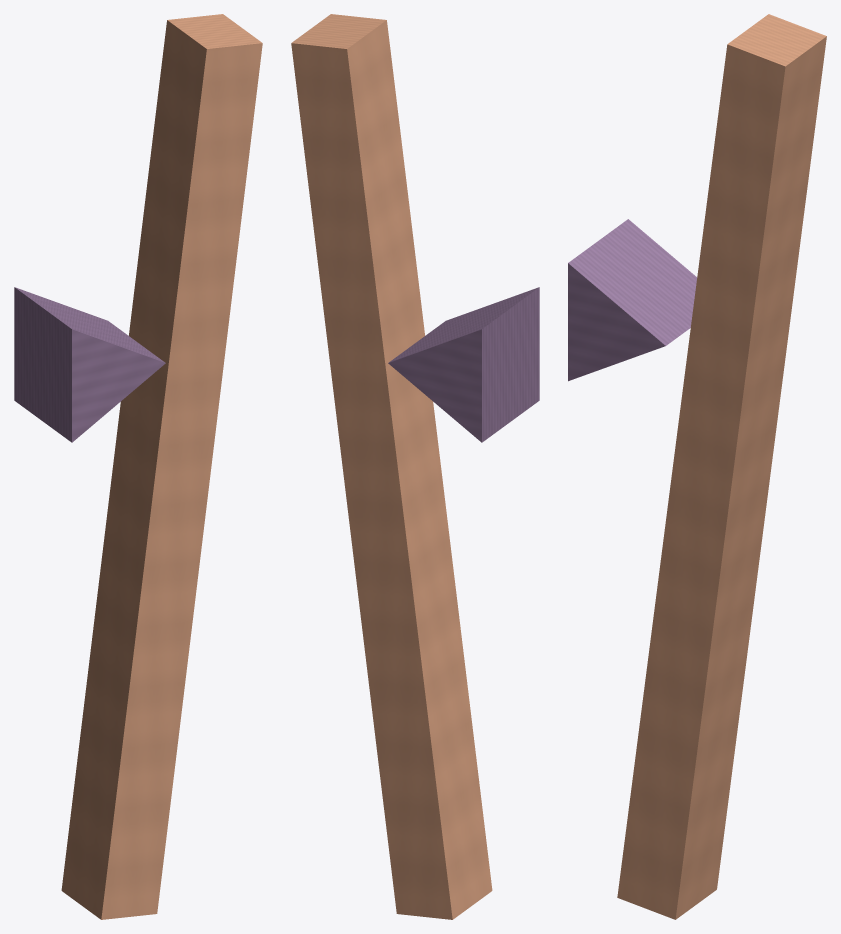
The model's file is atlas100-s086-a05.lod2.glb.
The picture shows the model from 3 angles, left to right: view 1: azimuth 30°, elevation 25°; view 2: azimuth 150°, elevation 25°; view 3: azimuth 330°, elevation 25°; orthographic projection. The views are drawn at different scales.
Parts seen in each view (by area): view 1: atlas100-s086-a05:part-001, atlas100-s086-a05:part-002; view 2: atlas100-s086-a05:part-001, atlas100-s086-a05:part-002; view 3: atlas100-s086-a05:part-001, atlas100-s086-a05:part-002.
Boxes of the visible parts, <box> form: atlas100-s086-a05:part-001: <box>61,14,262,919</box>; atlas100-s086-a05:part-002: <box>14,287,165,442</box>; atlas100-s086-a05:part-001: <box>291,14,492,919</box>; atlas100-s086-a05:part-002: <box>388,287,539,442</box>; atlas100-s086-a05:part-001: <box>617,14,826,919</box>; atlas100-s086-a05:part-002: <box>568,219,697,381</box>.
Size of the model in its own units: 0.1741 by 0.7102 by 0.0874.
Materials: 2 (2 with a texture image).
